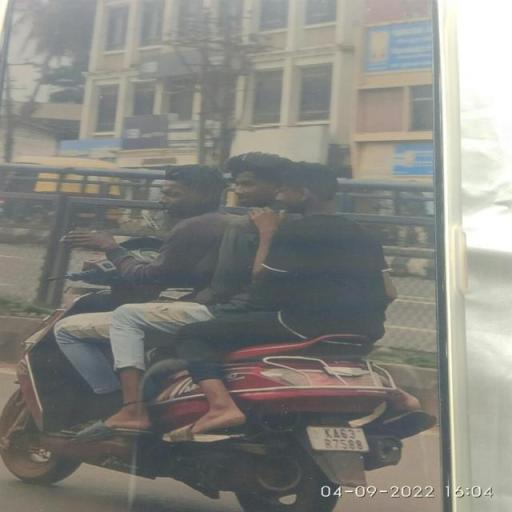tripple riding: (18, 150, 404, 358)
